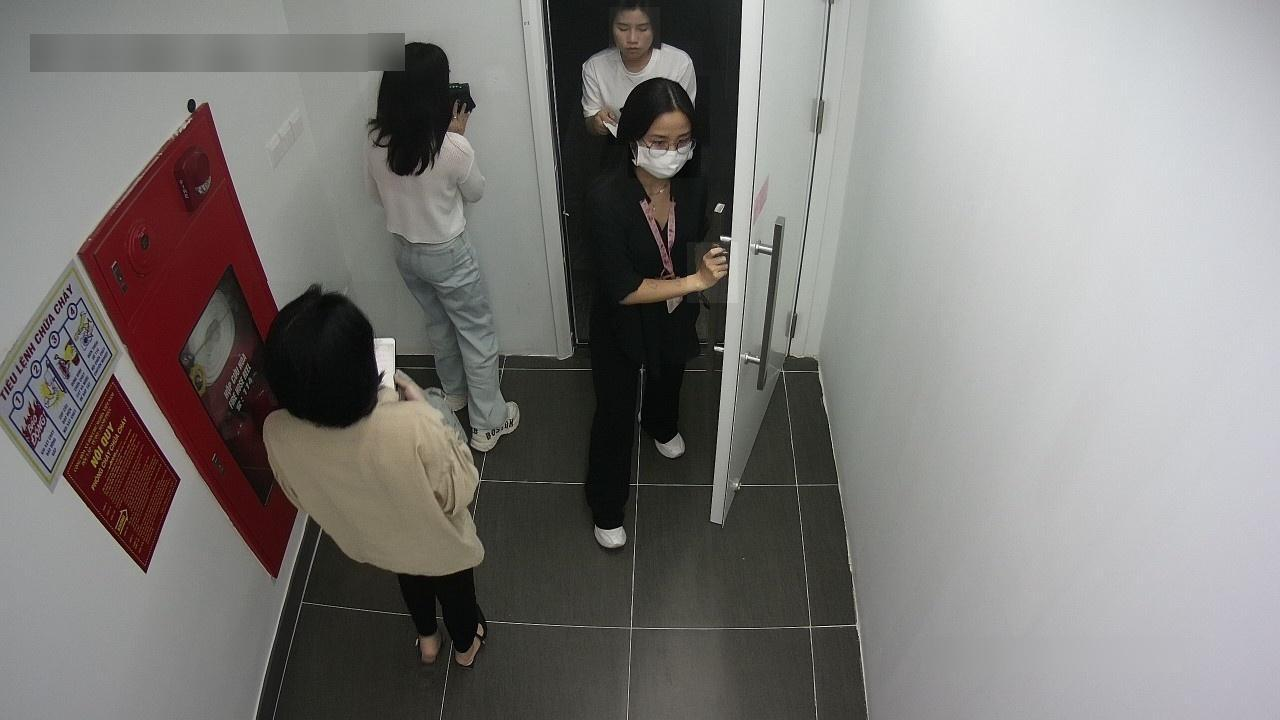mask: (628, 118, 701, 178)
no_apron: (687, 242, 738, 304)
no_gloves: (253, 281, 398, 442), (368, 31, 459, 181), (607, 77, 710, 146)
no_hairnet: (609, 7, 660, 60)
